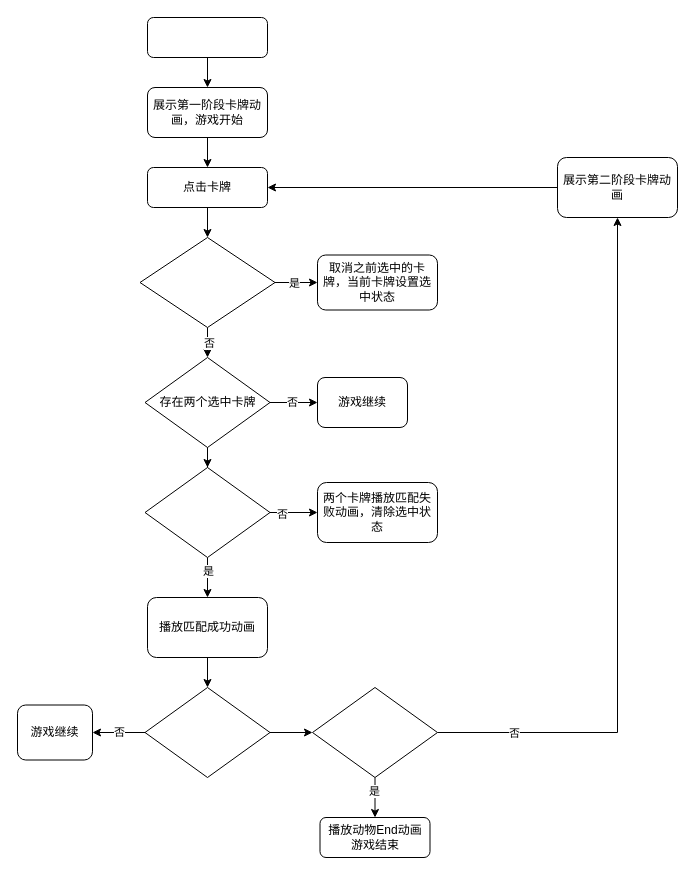
Image size: 695x875. Some labels were removed from this diagram. Each missing label, with the box of its shape:
初始化游戏数据和界面: (146, 16, 268, 58)
判断游戏是否结束: (312, 686, 438, 778)
同一行是否存在 被选中的卡牌: (139, 236, 275, 328)
当前阶段是否结束: (144, 686, 270, 778)
是否匹配: (144, 466, 270, 558)
